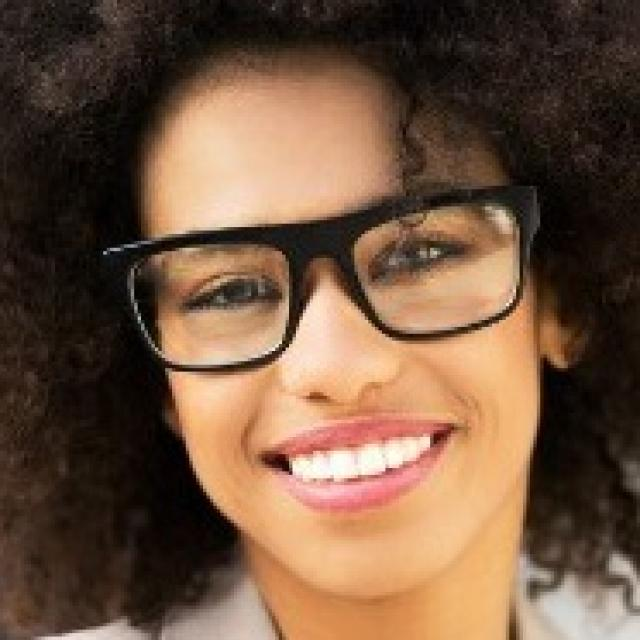Normal: (138, 49, 542, 605)
